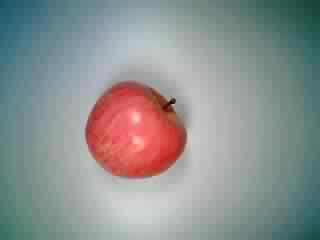apple: (84, 78, 188, 182)
